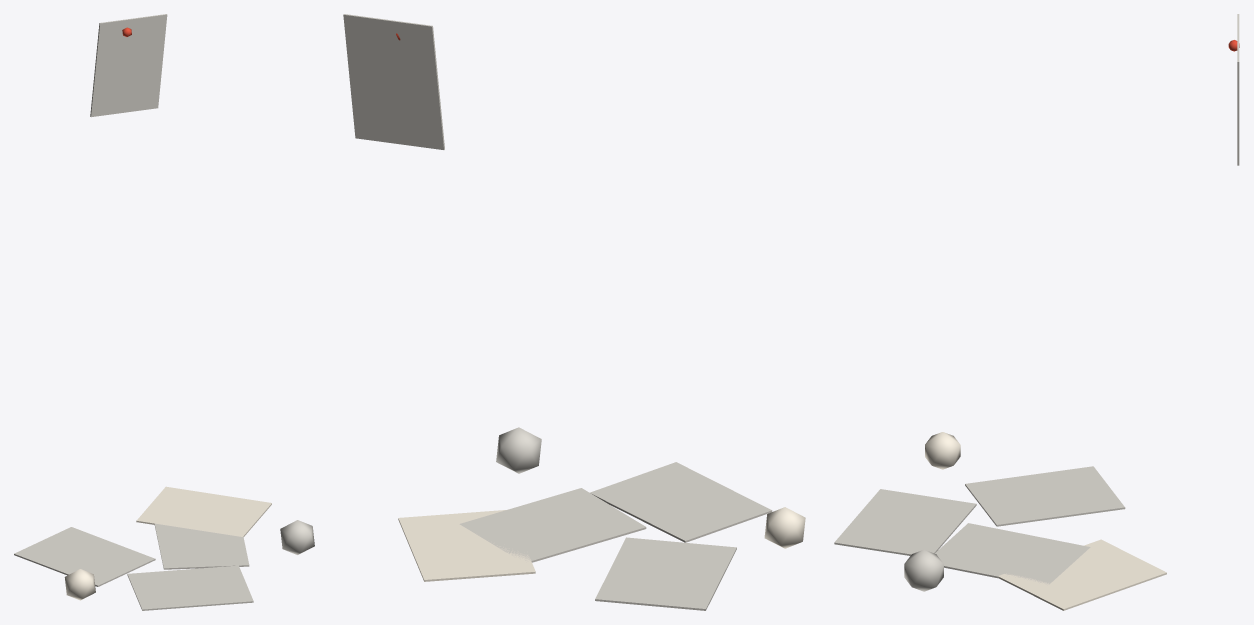
The model's file is station_intake_ausstattung_1_0.glb.
3 renders of one model, left to right at view 1: azimuth 30°, elevation 25°; view 2: azimuth 150°, elevation 25°; view 3: azimuth 270°, elevation 25°, orthographic. The views are drawn at different scales.
Visible parts, largest first — view 1: station_intake_ausstattung_1_0; view 2: station_intake_ausstattung_1_0; view 3: station_intake_ausstattung_1_0.
Boxes of the visible parts, bbox=[...] form: station_intake_ausstattung_1_0: bbox=[14, 14, 314, 610]; station_intake_ausstattung_1_0: bbox=[343, 14, 805, 610]; station_intake_ausstattung_1_0: bbox=[834, 14, 1239, 610].
Bounding box in the file's own units: 0.7577 × 1.28 × 0.8709.
